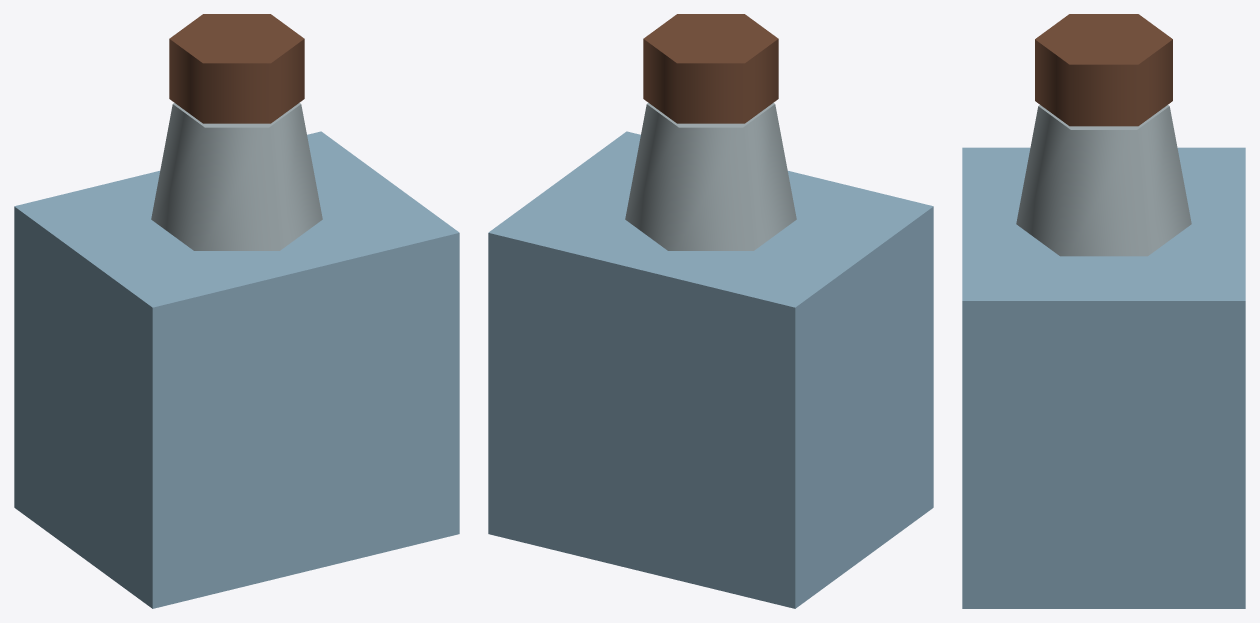
File: potion-4-lod1.glb
3 views of the same model, side by side, from view 1: azimuth 30°, elevation 25°; view 2: azimuth 150°, elevation 25°; view 3: azimuth 270°, elevation 25° (orthographic). The views are drawn at different scales.
Parts seen in each view (by area): view 1: piece_whole; view 2: piece_whole; view 3: piece_whole.
Part boxes in pixels (bbox=[...]): piece_whole: bbox=[14, 14, 459, 608]; piece_whole: bbox=[488, 14, 933, 608]; piece_whole: bbox=[962, 14, 1245, 608].
Bounding box in the file's own units: 0.32 × 0.48 × 0.25.
